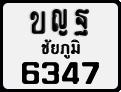letters: (74, 8, 90, 36), (21, 62, 40, 85), (52, 9, 68, 36), (61, 61, 79, 84), (29, 10, 45, 35), (41, 62, 59, 84), (82, 61, 99, 84)
province: (41, 38, 81, 59)
